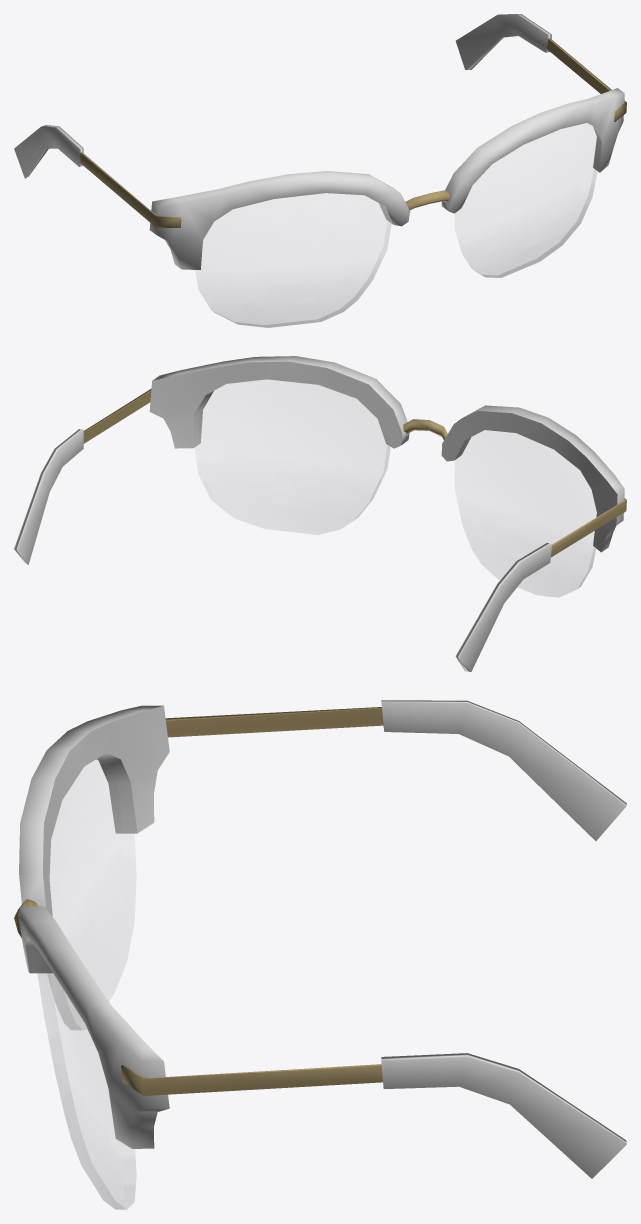
File: p0_eyw1003_00_eyw00.gltf
3 renders of one model, top to bottom at view 1: azimuth 30°, elevation 25°; view 2: azimuth 150°, elevation 25°; view 3: azimuth 270°, elevation 25°, orthographic. The views are drawn at different scales.
Visible parts, largest first — view 1: eyw00_frame_mesh_shape:eyewear, eyw00_lens_mesh_shape:eyewear, eyw00_temple_mesh_shape:eyewear; view 2: eyw00_frame_mesh_shape:eyewear, eyw00_lens_mesh_shape:eyewear, eyw00_temple_mesh_shape:eyewear; view 3: eyw00_temple_mesh_shape:eyewear, eyw00_frame_mesh_shape:eyewear, eyw00_lens_mesh_shape:eyewear.
Boxes of the visible parts, bbox=[...] form: eyw00_frame_mesh_shape:eyewear: bbox=[149, 88, 624, 269]; eyw00_lens_mesh_shape:eyewear: bbox=[197, 169, 597, 327]; eyw00_temple_mesh_shape:eyewear: bbox=[14, 14, 626, 227]; eyw00_frame_mesh_shape:eyewear: bbox=[149, 356, 624, 552]; eyw00_lens_mesh_shape:eyewear: bbox=[197, 445, 595, 597]; eyw00_temple_mesh_shape:eyewear: bbox=[14, 388, 626, 671]; eyw00_temple_mesh_shape:eyewear: bbox=[121, 700, 626, 1178]; eyw00_frame_mesh_shape:eyewear: bbox=[14, 705, 169, 1148]; eyw00_lens_mesh_shape:eyewear: bbox=[38, 854, 135, 1209].
Size of what is drawn, in the model's own units: 0.2115 by 0.0681 by 0.1515.
1 material, 1 textured.
